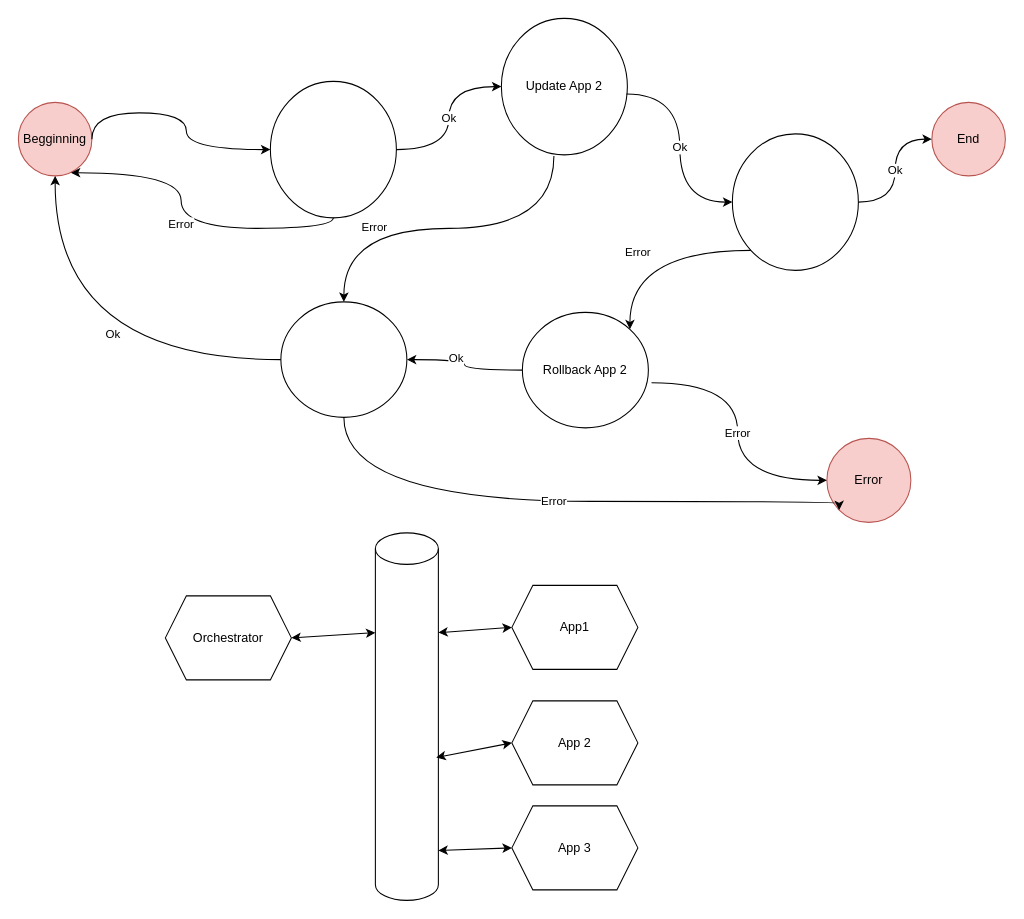
The diagram is 1024 pixels wide and 919 high, and some of its shapes have lost their labels. The shapes that lost their labels are listed below. From the top down, each one's box as (x1, y1, x2, y2) in pixels, then its label:
(269, 80, 396, 218): Update App 1
(731, 133, 858, 270): Update App 3
(280, 301, 407, 417): Rollback App 1
(374, 532, 438, 900): Message Broker
